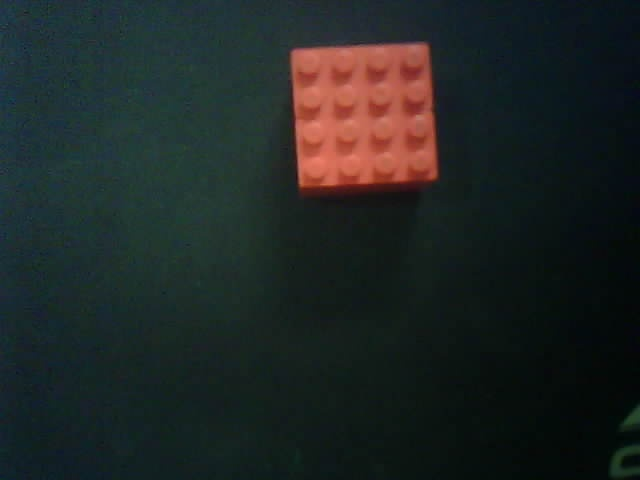lego: (288, 41, 439, 195)
